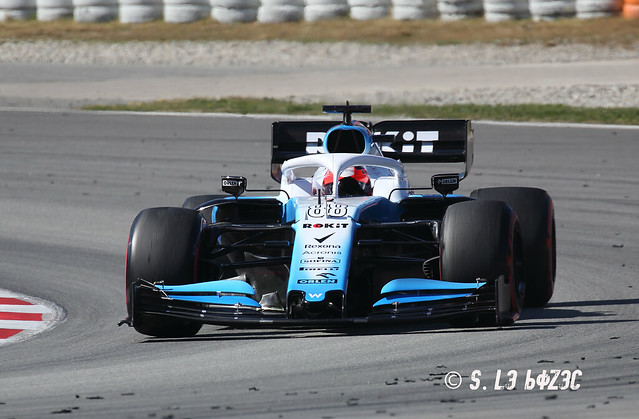F1 Car: (123, 99, 559, 343)
